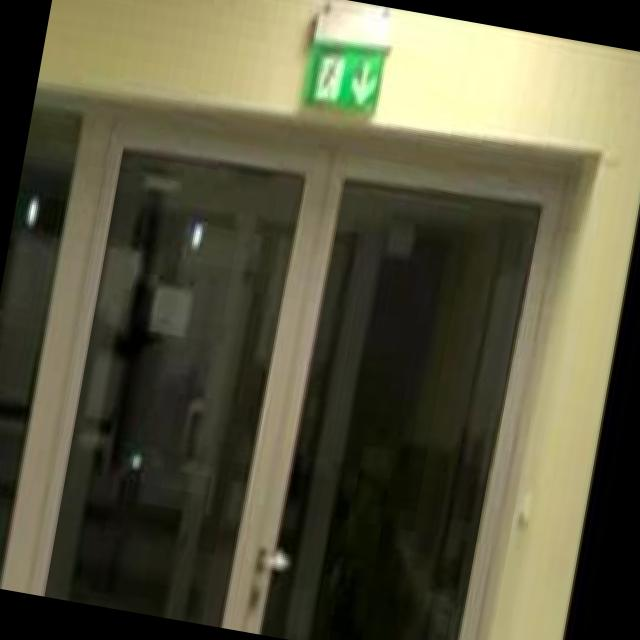Guns: (0, 284, 13, 426)
